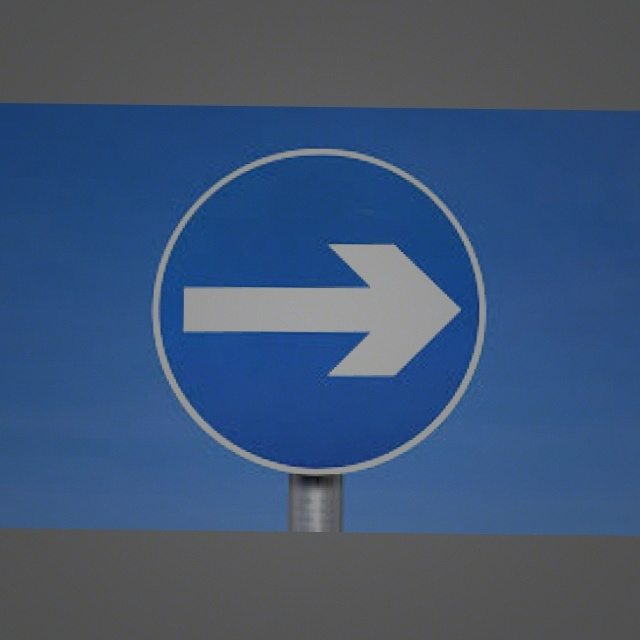Compulsory_Turn_Right: (158, 144, 486, 473)
